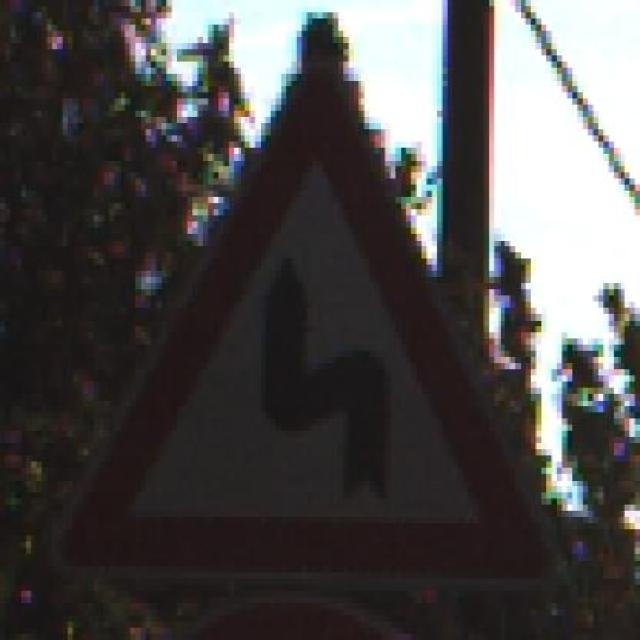Left Zig Zag Traffic: (41, 49, 562, 597)
